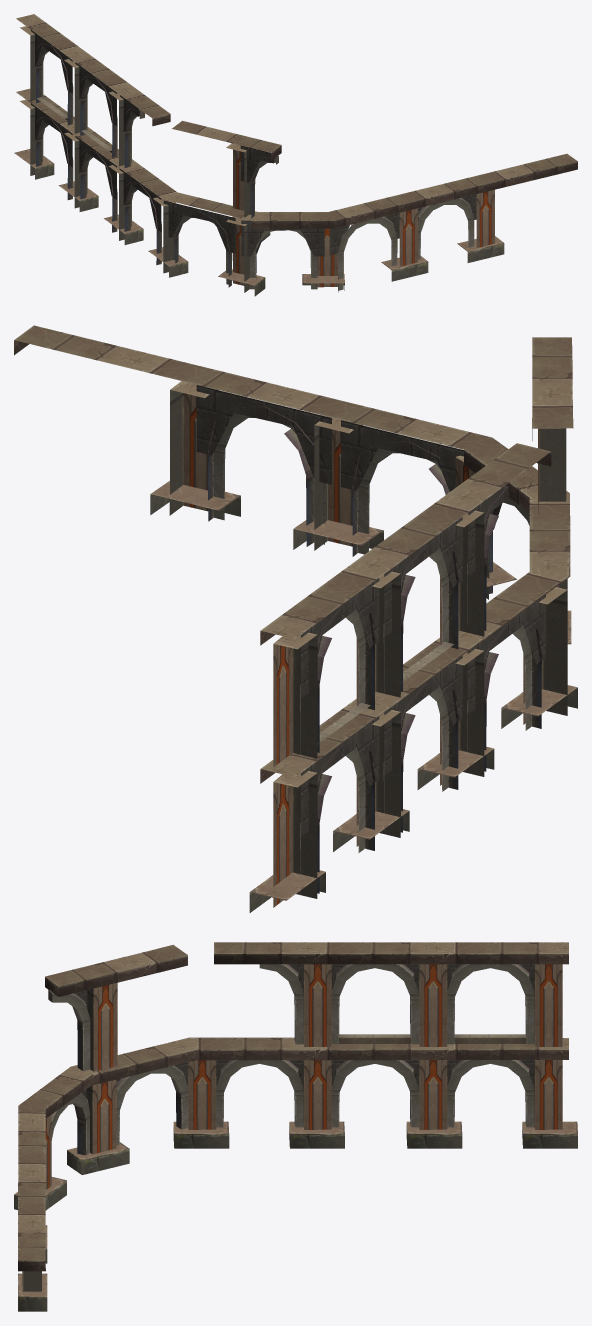
File: terrain_section03_guanka11_bj03.FBX
3 renders of one model, top to bottom at view 1: azimuth 30°, elevation 25°; view 2: azimuth 150°, elevation 25°; view 3: azimuth 270°, elevation 25°, orthographic. The views are drawn at different scales.
Visible parts, largest first — view 1: terrain_section03_guanka11_bj03; view 2: terrain_section03_guanka11_bj03; view 3: terrain_section03_guanka11_bj03.
Part boxes in pixels (box(x1,y1,x2,y2)): terrain_section03_guanka11_bj03: box(14, 14, 577, 296); terrain_section03_guanka11_bj03: box(14, 325, 577, 912); terrain_section03_guanka11_bj03: box(14, 942, 577, 1311).
Size of the model in its own units: 39.56 by 15.99 by 42.3.
